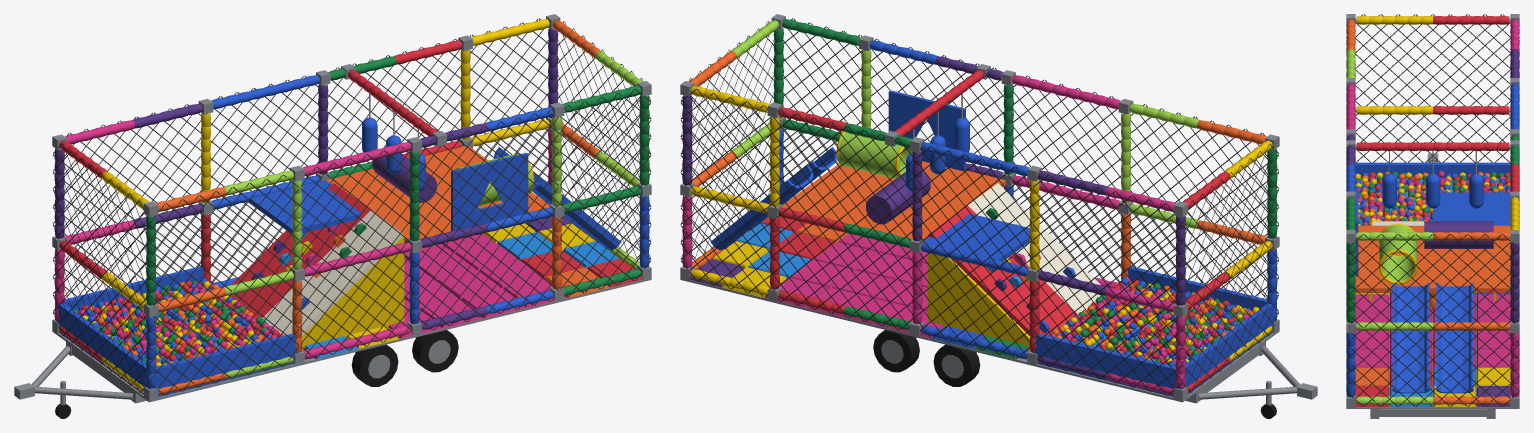
The model's file is mini.glb.
3 renders of one model, left to right at view 1: azimuth 30°, elevation 25°; view 2: azimuth 150°, elevation 25°; view 3: azimuth 270°, elevation 25°, orthographic. The views are drawn at different scales.
Parts seen in each view (by area): view 1: isotubo, rede, plataforma, piso, acolchoado, metal, bolinhas, borracha, plastico; view 2: isotubo, rede, plataforma, piso, acolchoado, metal, bolinhas, plastico, borracha; view 3: isotubo, rede, plataforma, piso, plastico, acolchoado, bolinhas, metal.
Boxes of the visible parts, left/top/right/bottom form: isotubo: left=54, top=19, right=649, bottom=394; rede: left=53, top=18, right=651, bottom=395; plataforma: left=228, top=146, right=551, bottom=349; piso: left=304, top=216, right=642, bottom=358; acolchoado: left=55, top=117, right=534, bottom=396; metal: left=14, top=14, right=651, bottom=405; bolinhas: left=73, top=278, right=283, bottom=366; borracha: left=55, top=330, right=458, bottom=418; plastico: left=234, top=147, right=621, bottom=309; isotubo: left=682, top=19, right=1277, bottom=394; rede: left=680, top=18, right=1278, bottom=395; plataforma: left=780, top=90, right=1100, bottom=349; piso: left=689, top=216, right=1027, bottom=358; acolchoado: left=836, top=117, right=1276, bottom=396; metal: left=680, top=14, right=1317, bottom=405; bolinhas: left=1049, top=277, right=1258, bottom=366; plastico: left=710, top=147, right=1075, bottom=333; borracha: left=873, top=330, right=1276, bottom=418; isotubo: left=1346, top=16, right=1519, bottom=405; rede: left=1346, top=14, right=1519, bottom=406; plataforma: left=1355, top=188, right=1510, bottom=300; piso: left=1355, top=293, right=1510, bottom=406; plastico: left=1392, top=217, right=1473, bottom=393; acolchoado: left=1355, top=162, right=1510, bottom=284; bolinhas: left=1355, top=170, right=1510, bottom=225; metal: left=1346, top=14, right=1519, bottom=418.
Bounding box in the file's own units: 0.7 × 0.27 × 0.2.
9 materials, 8 textured.
